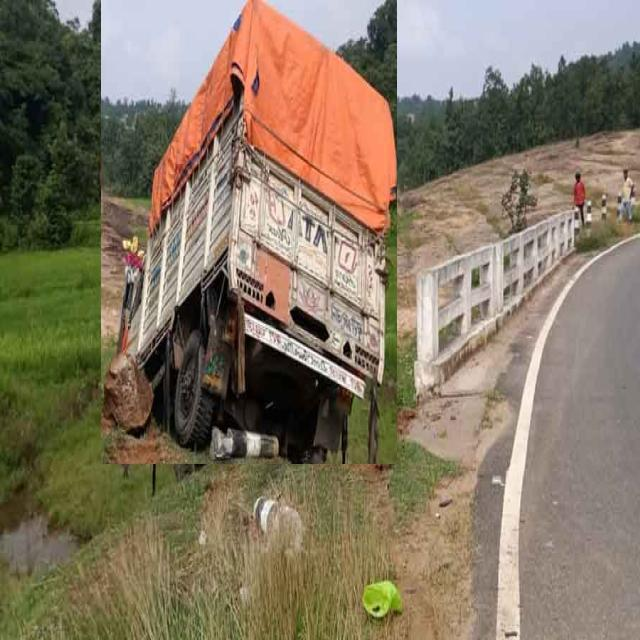accident: (101, 0, 397, 464)
